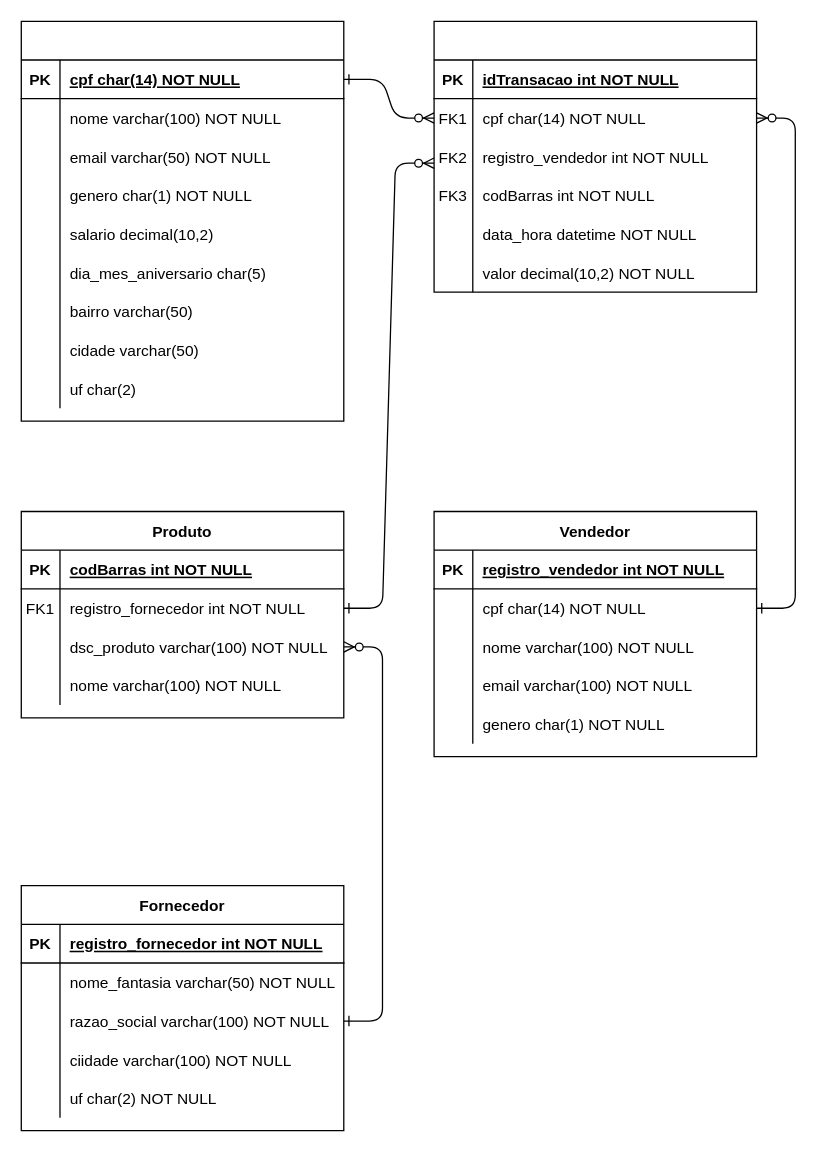
Image size: 817x1152. Some labels were removed from this diagram. The shapes that lost their labels are listed below. From the top down, each one's box as (x1, y1, x2, y2) in pixels, then its label:
(433, 20, 757, 292): Venda
(20, 20, 344, 421): Cliente
